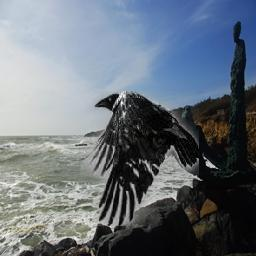Crow: (79, 92, 199, 227)
